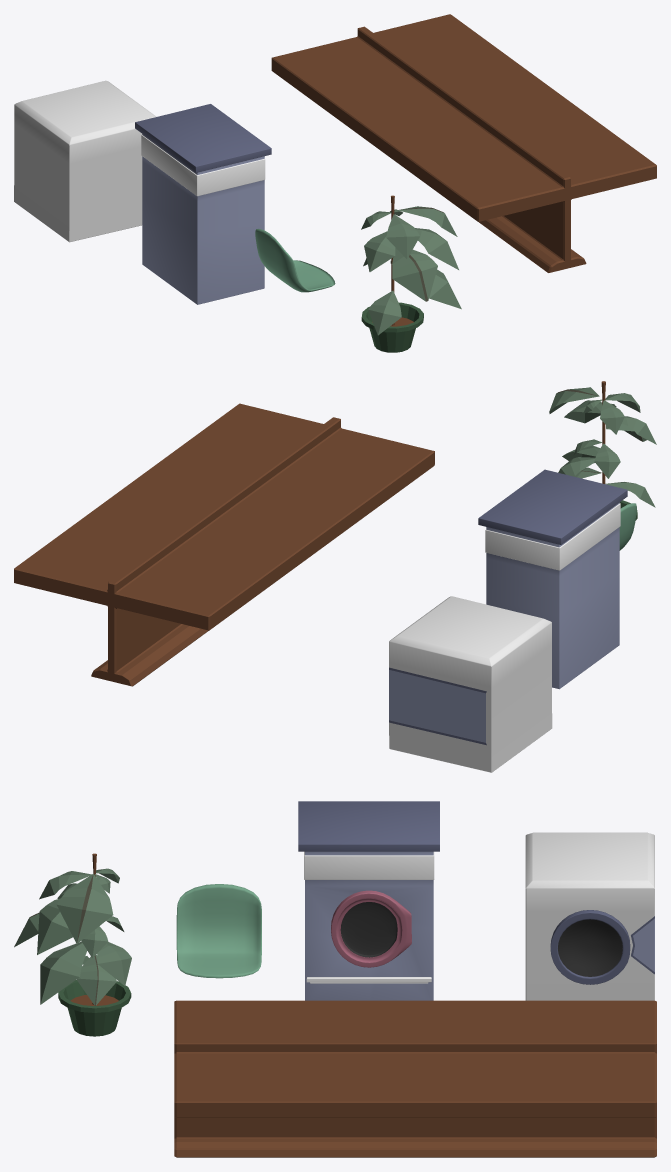
The picture shows the model from 3 angles, top to bottom: view 1: azimuth 30°, elevation 25°; view 2: azimuth 150°, elevation 25°; view 3: azimuth 270°, elevation 25°; orthographic projection. The views are drawn at different scales.
Parts seen in each view (by area): view 1: Folding Table.001, WM.002, Washing Machine_Frame.005, BenchChair.002, PlantPot.001, Leaf.016, Leaf.020, Leaf.022, Leaf.017, Leaf.019, Leaf.015, Leaf.018; view 2: Folding Table.001, Washing Machine_Frame.005, WM.002, BenchChair.002, Leaf.018; view 3: Folding Table.001, WM.002, Washing Machine_Frame.005, BenchChair.002, PlantPot.001, Leaf.018, Leaf.015, Leaf.017, Leaf.023, Leaf.021, Leaf.022.
Part boxes in pixels (bbox=[...]): Folding Table.001: bbox=[271, 14, 656, 272]; WM.002: bbox=[135, 104, 271, 304]; Washing Machine_Frame.005: bbox=[14, 80, 156, 242]; BenchChair.002: bbox=[255, 228, 335, 292]; PlantPot.001: bbox=[361, 302, 423, 352]; Leaf.016: bbox=[392, 247, 437, 301]; Leaf.020: bbox=[368, 290, 401, 335]; Leaf.022: bbox=[386, 214, 419, 258]; Leaf.017: bbox=[415, 228, 458, 269]; Leaf.019: bbox=[364, 231, 395, 271]; Leaf.015: bbox=[429, 269, 461, 309]; Leaf.018: bbox=[397, 206, 457, 236]; Folding Table.001: bbox=[14, 403, 434, 686]; Washing Machine_Frame.005: bbox=[389, 596, 552, 772]; WM.002: bbox=[478, 469, 627, 689]; BenchChair.002: bbox=[619, 503, 636, 550]; Leaf.018: bbox=[549, 387, 599, 413]; Folding Table.001: bbox=[174, 1000, 656, 1157]; WM.002: bbox=[298, 801, 439, 1000]; Washing Machine_Frame.005: bbox=[525, 832, 654, 1000]; BenchChair.002: bbox=[176, 884, 261, 978]; PlantPot.001: bbox=[58, 980, 131, 1036]; Leaf.018: bbox=[56, 874, 113, 943]; Leaf.015: bbox=[40, 941, 87, 1004]; Leaf.017: bbox=[37, 898, 72, 954]; Leaf.023: bbox=[76, 954, 116, 1005]; Leaf.021: bbox=[97, 942, 131, 985]; Leaf.022: bbox=[39, 871, 91, 899].
Size of the model in its own units: 487 by 159 by 533.
